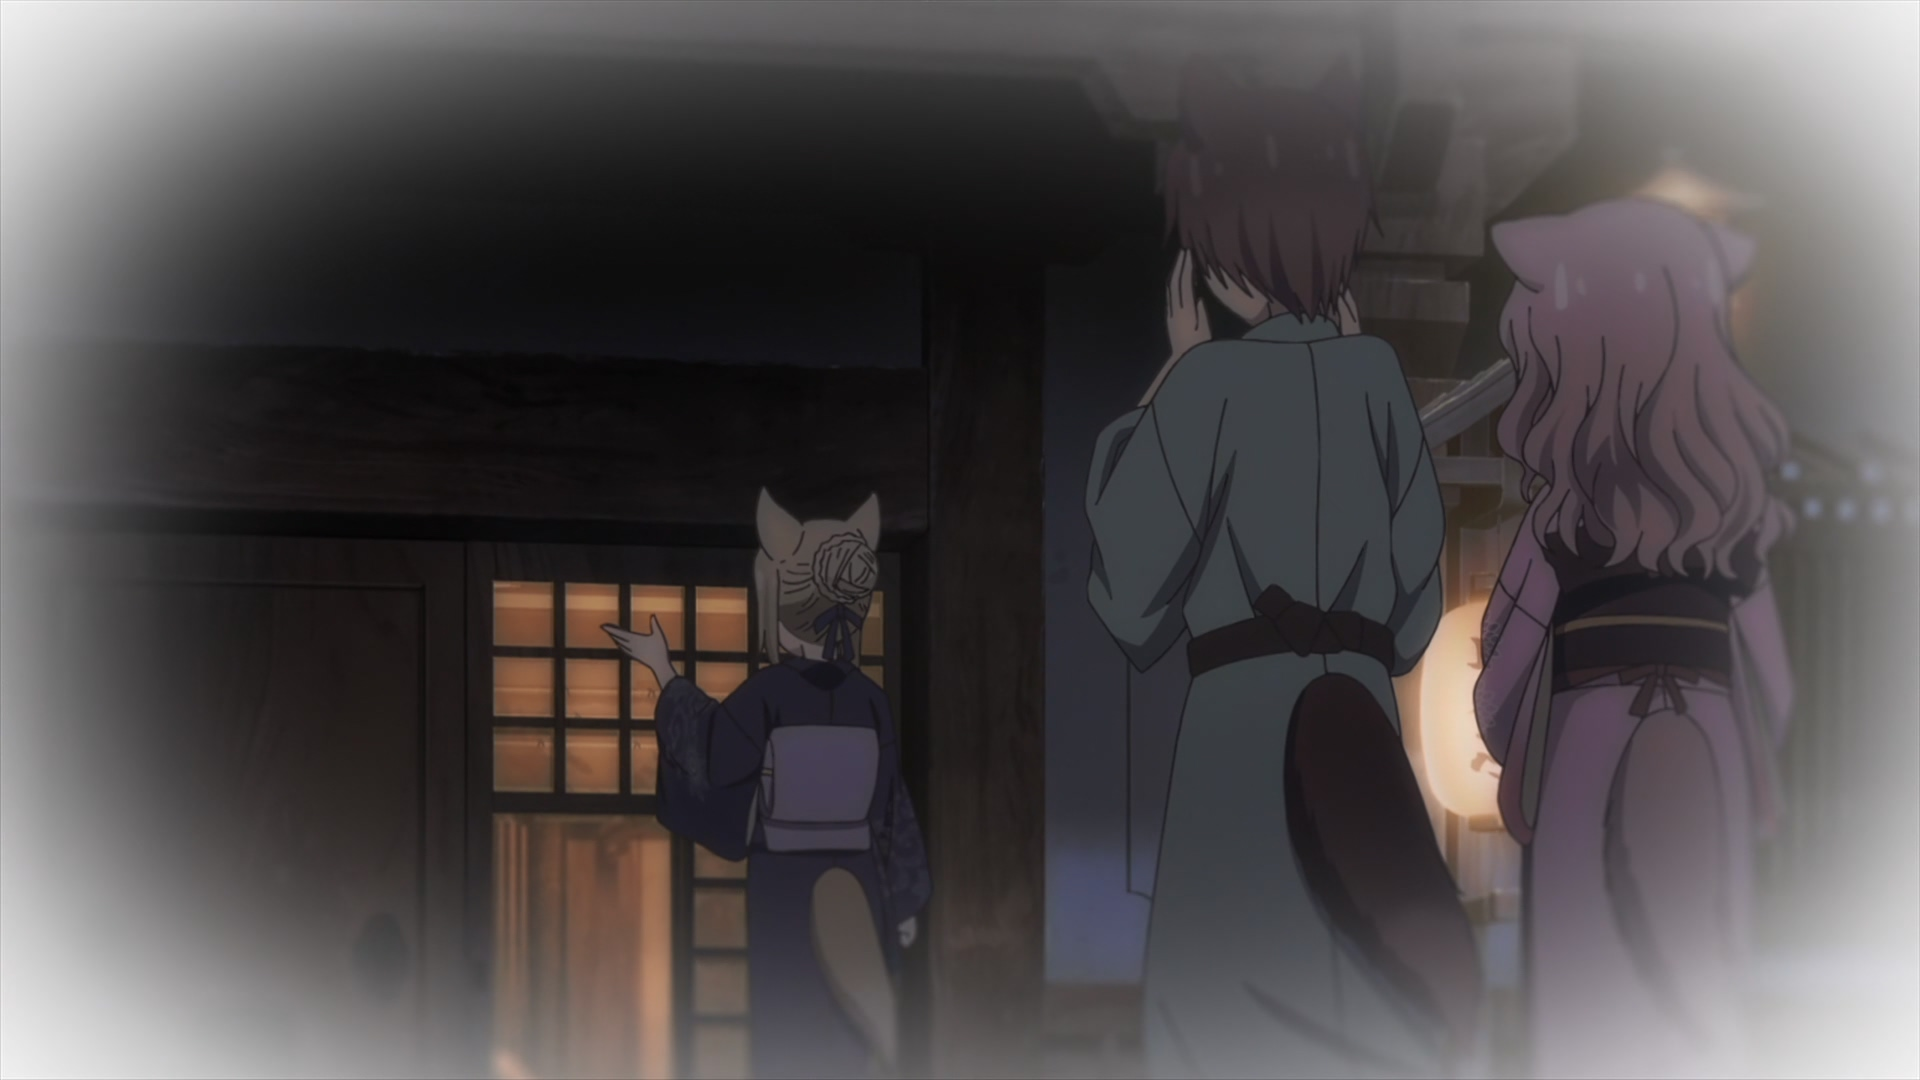枣: (1087, 51, 1486, 1080)
桐: (603, 487, 928, 1080)
莲: (1470, 194, 1796, 1080)
